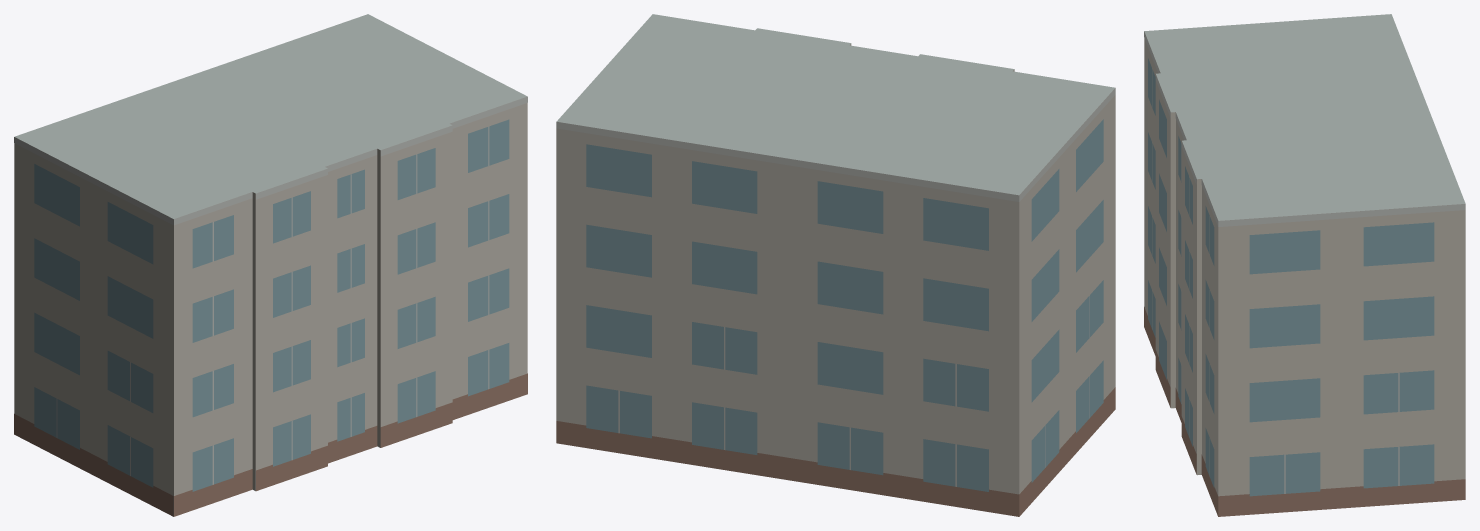
File: survey-upis-33024893.glb
The picture shows the model from 3 angles, left to right: view 1: azimuth 30°, elevation 25°; view 2: azimuth 150°, elevation 25°; view 3: azimuth 270°, elevation 25°; orthographic projection. The views are drawn at different scales.
Parts seen in each view (by area): view 1: survey-upis-33024893.tmp; view 2: survey-upis-33024893.tmp; view 3: survey-upis-33024893.tmp.
Boxes of the visible parts, bbox=[...] form: survey-upis-33024893.tmp: bbox=[14, 14, 527, 516]; survey-upis-33024893.tmp: bbox=[556, 14, 1115, 516]; survey-upis-33024893.tmp: bbox=[1144, 14, 1465, 516].
Bounding box in the file's own units: 17.4 × 11.6 × 11.43.
